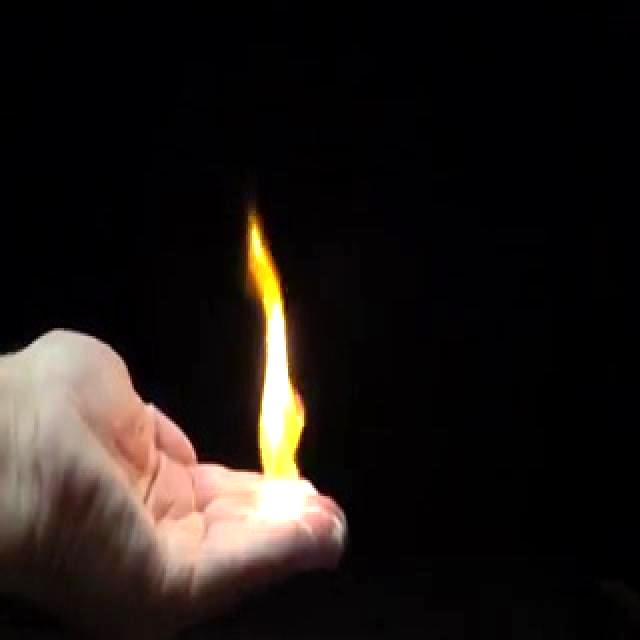fire: (251, 237, 307, 528)
